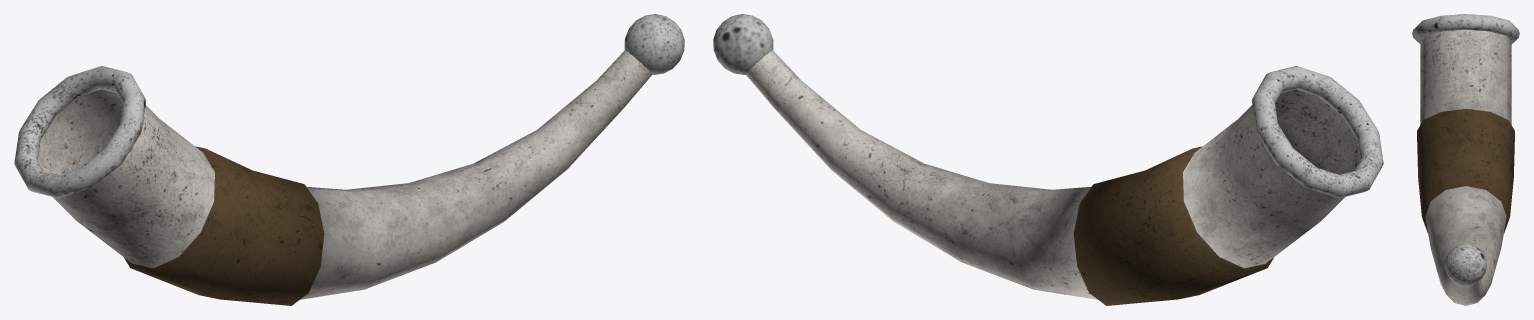
The model's file is Horn.obj.
The picture shows the model from 3 angles, left to right: view 1: azimuth 30°, elevation 25°; view 2: azimuth 150°, elevation 25°; view 3: azimuth 270°, elevation 25°; orthographic projection. The views are drawn at different scales.
Parts seen in each view (by area): view 1: Sphere.002; view 2: Sphere.002; view 3: Sphere.002.
Boxes of the visible parts, x1,y1,x2,y2 form: Sphere.002: [14, 14, 684, 305]; Sphere.002: [713, 14, 1383, 305]; Sphere.002: [1412, 14, 1519, 305].
Bounding box in the file's own units: 3.21 × 1.26 × 0.66.
